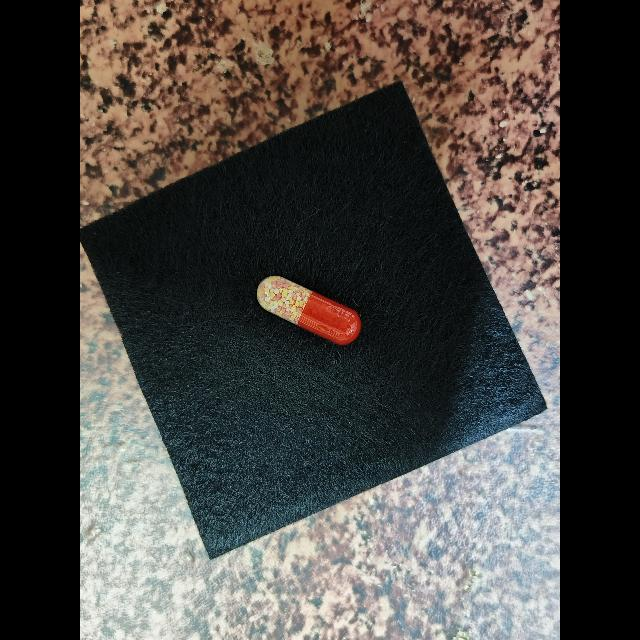Intact Capsule: (257, 275, 361, 345)
